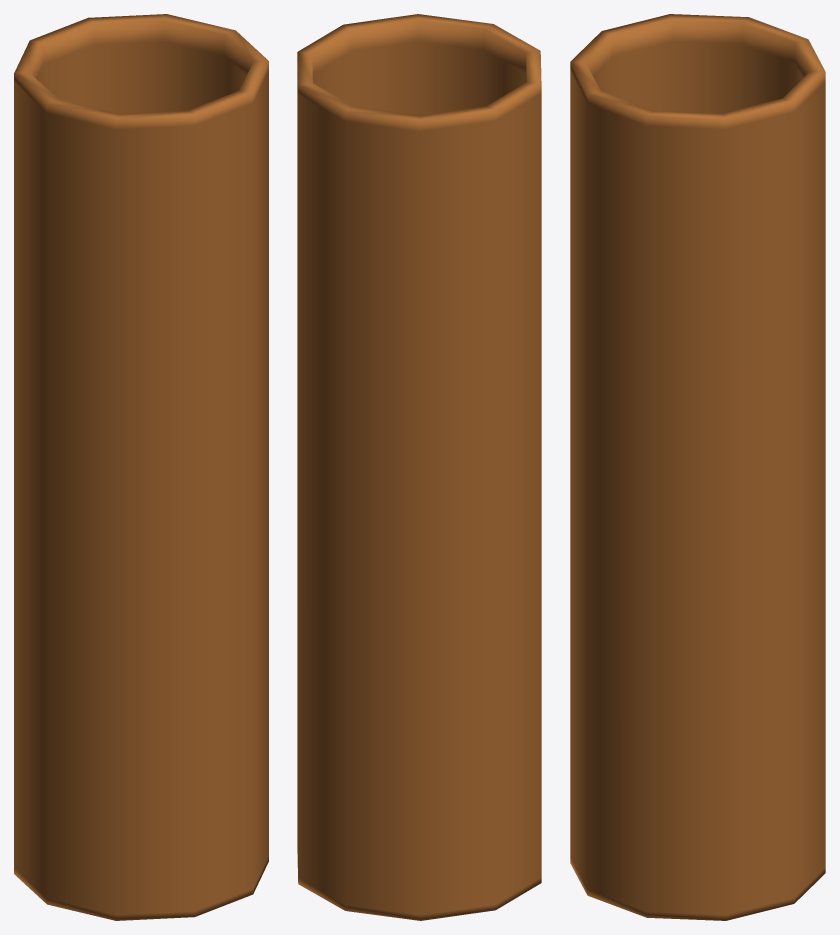
File: RollRoll_0.obj
The picture shows the model from 3 angles, left to right: view 1: azimuth 30°, elevation 25°; view 2: azimuth 150°, elevation 25°; view 3: azimuth 270°, elevation 25°; orthographic projection.
Parts seen in each view (by area): view 1: Roll; view 2: Roll; view 3: Roll.
Part boxes in pixels (x1,y1,x2,y2): Roll: (14,14,268,920); Roll: (297,14,541,920); Roll: (570,14,825,920).
Size of the model in its own units: 0.00508 by 0.0179 by 0.00519.
